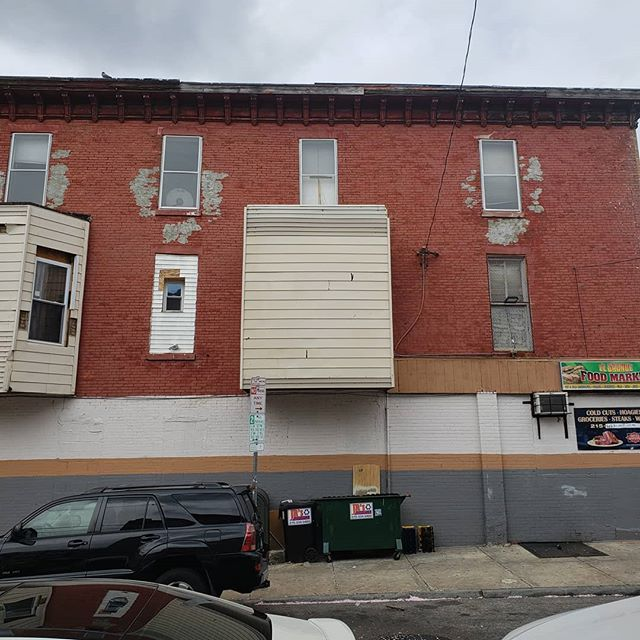building: (1, 64, 639, 527)
car: (2, 483, 274, 596)
dumpster: (321, 481, 409, 560)
trash can: (282, 490, 326, 562)
